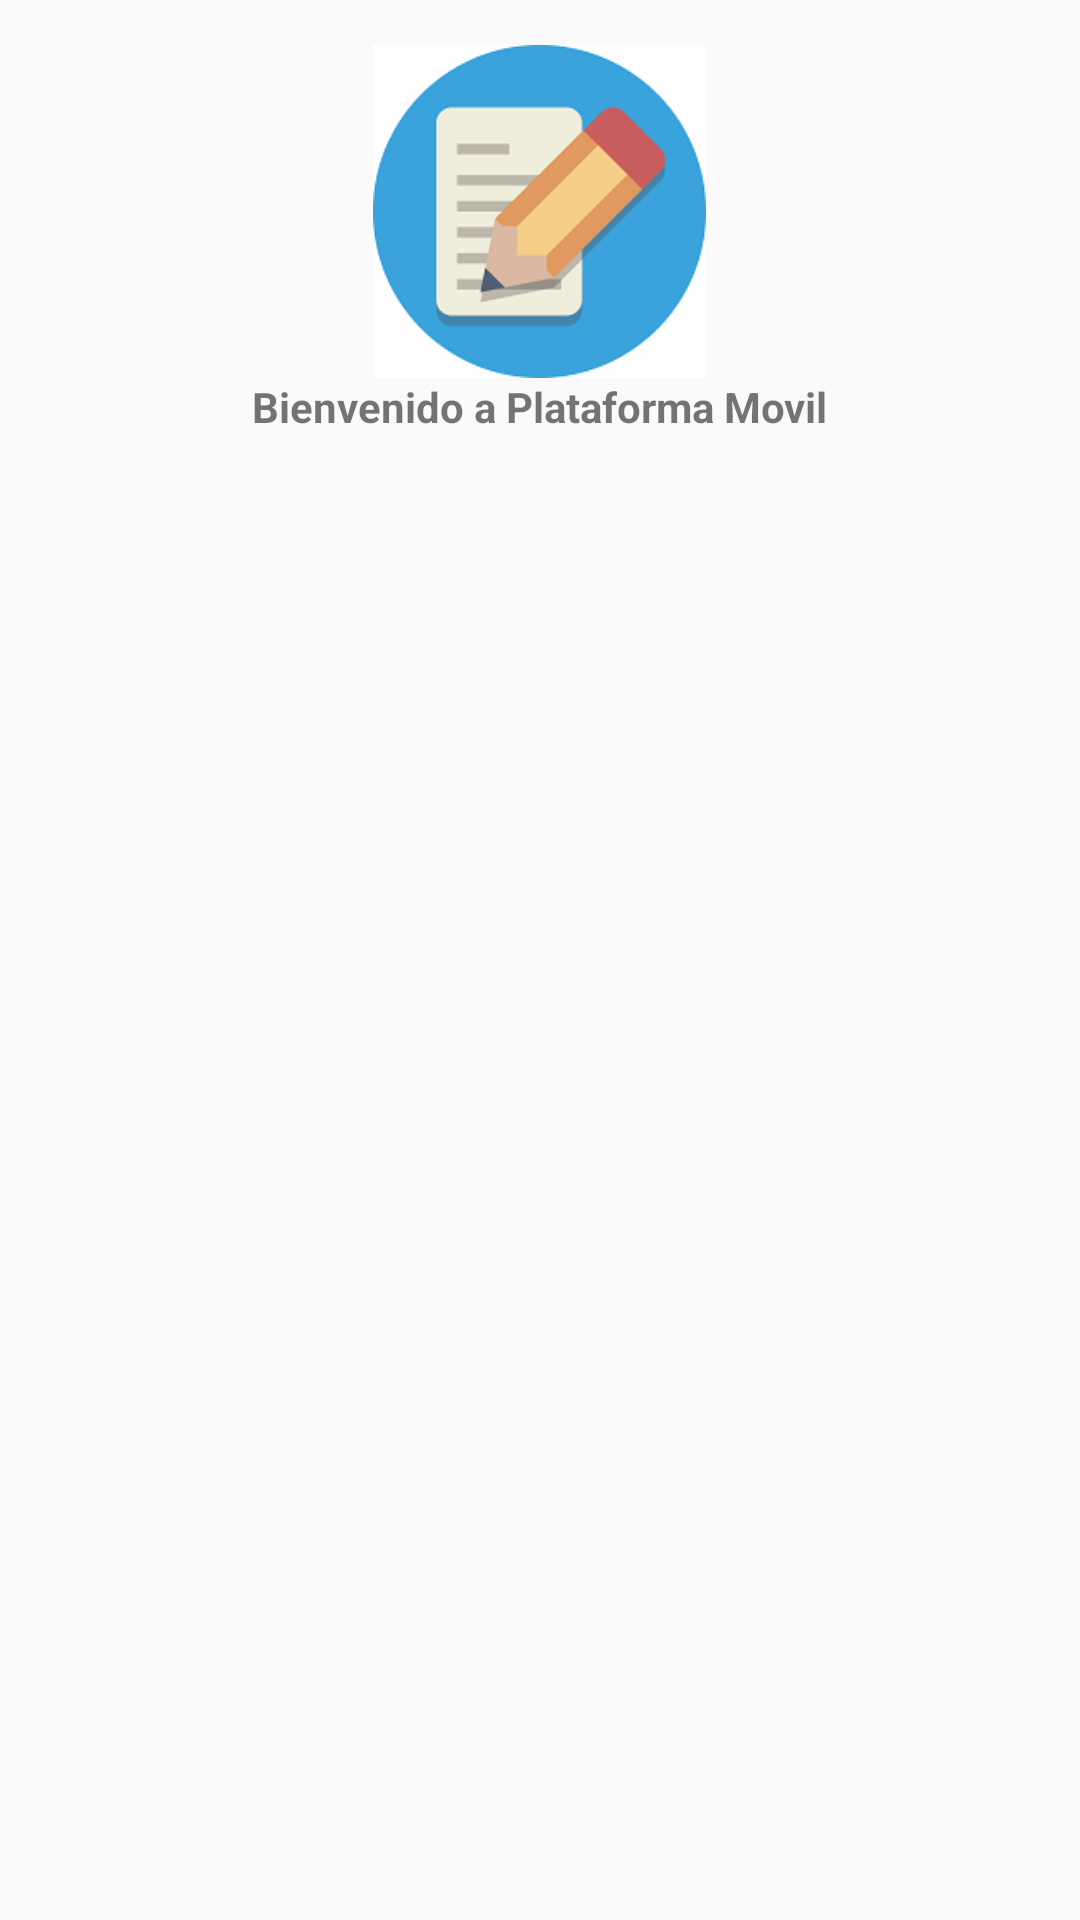

Point at icon controls on the screen. Image size 1080x1920, points as point (x, y).
pencil homework: point (539, 211)
